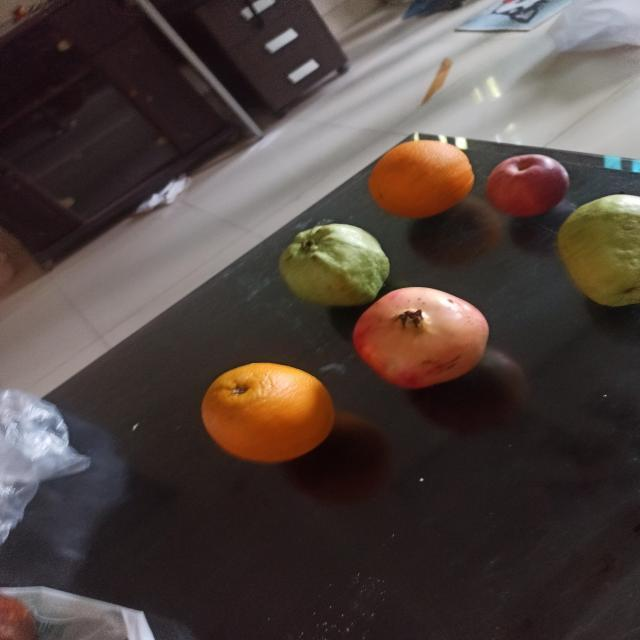apple: (486, 150, 570, 218)
